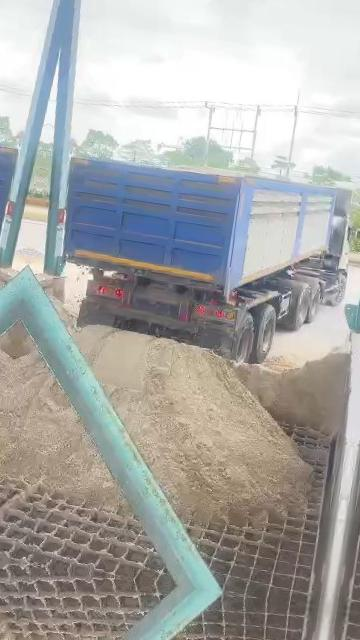sand: (76, 326, 309, 522), (0, 351, 121, 506), (236, 344, 349, 434), (169, 164, 247, 177), (49, 296, 74, 330), (14, 320, 33, 358)
